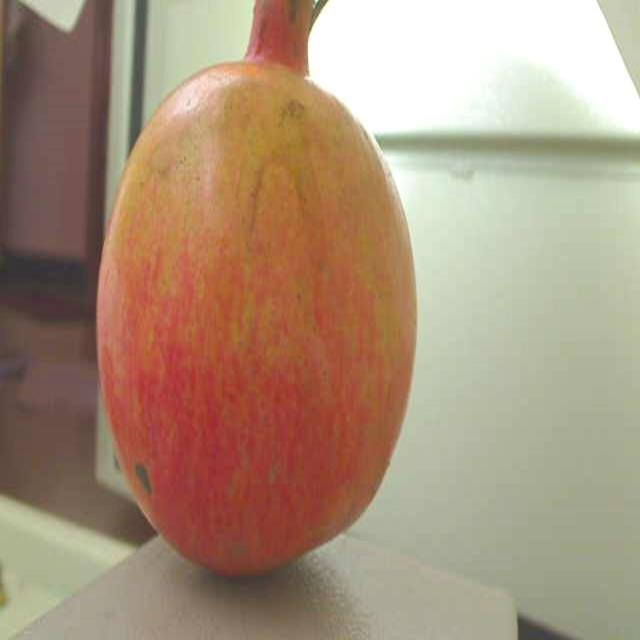pomegranate: (86, 0, 429, 591)
